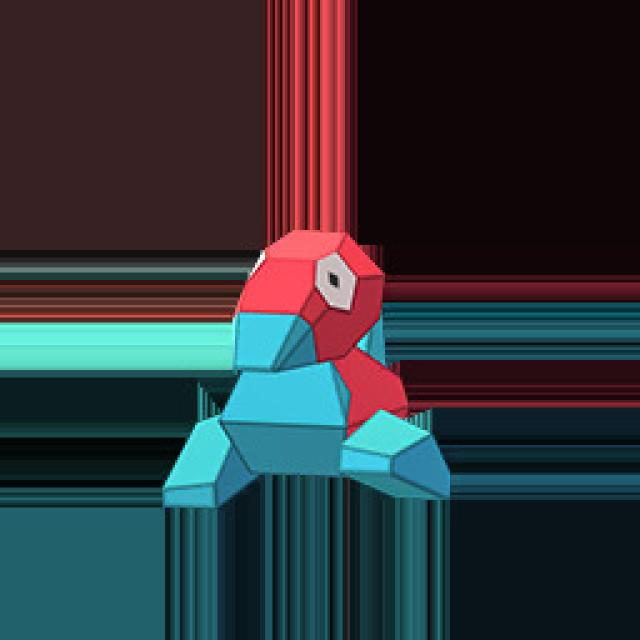Porygon: (166, 222, 459, 524)
